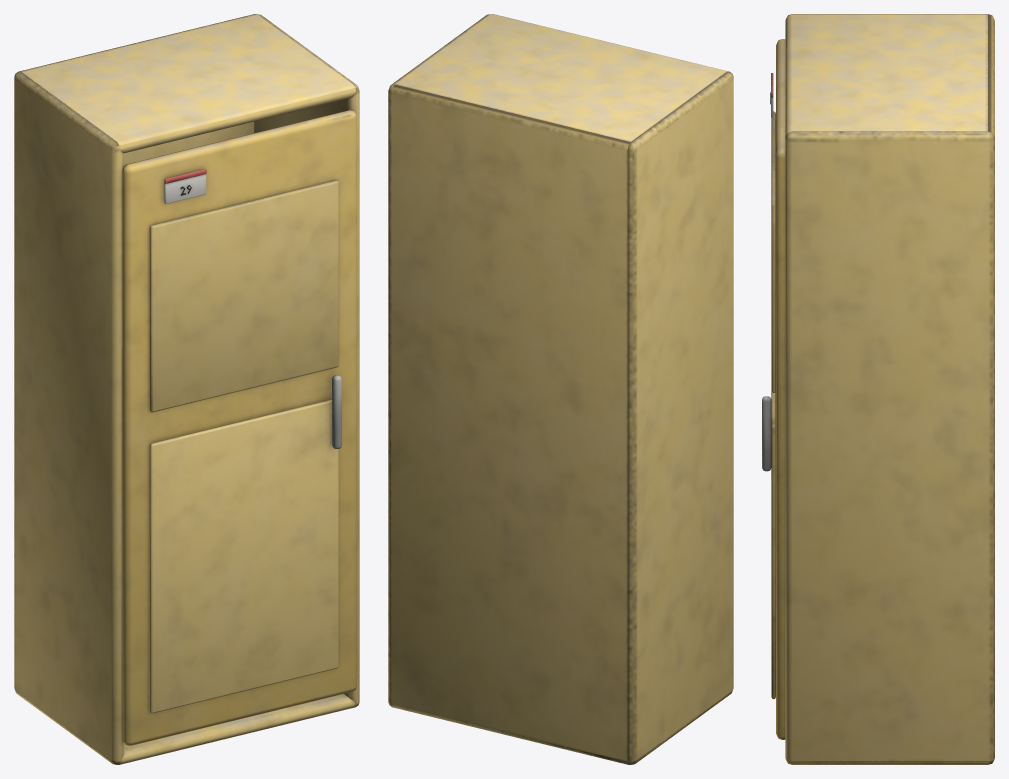
File: pantry.fbx
3 views of the same model, side by side, from view 1: azimuth 30°, elevation 25°; view 2: azimuth 150°, elevation 25°; view 3: azimuth 270°, elevation 25° (orthographic).
Visible parts, largest first — view 1: Door, Body; view 2: Body; view 3: Body, Door.
Part boxes in pixels (x1=…): Door: x1=122, y1=110, x2=356, y2=745; Body: x1=14, y1=14, x2=359, y2=764; Body: x1=388, y1=14, x2=733, y2=764; Body: x1=785, y1=14, x2=994, y2=764; Door: x1=762, y1=39, x2=785, y2=739.
Bounding box in the file's own units: 2.5 × 6 × 2.
1 material, 1 textured.
